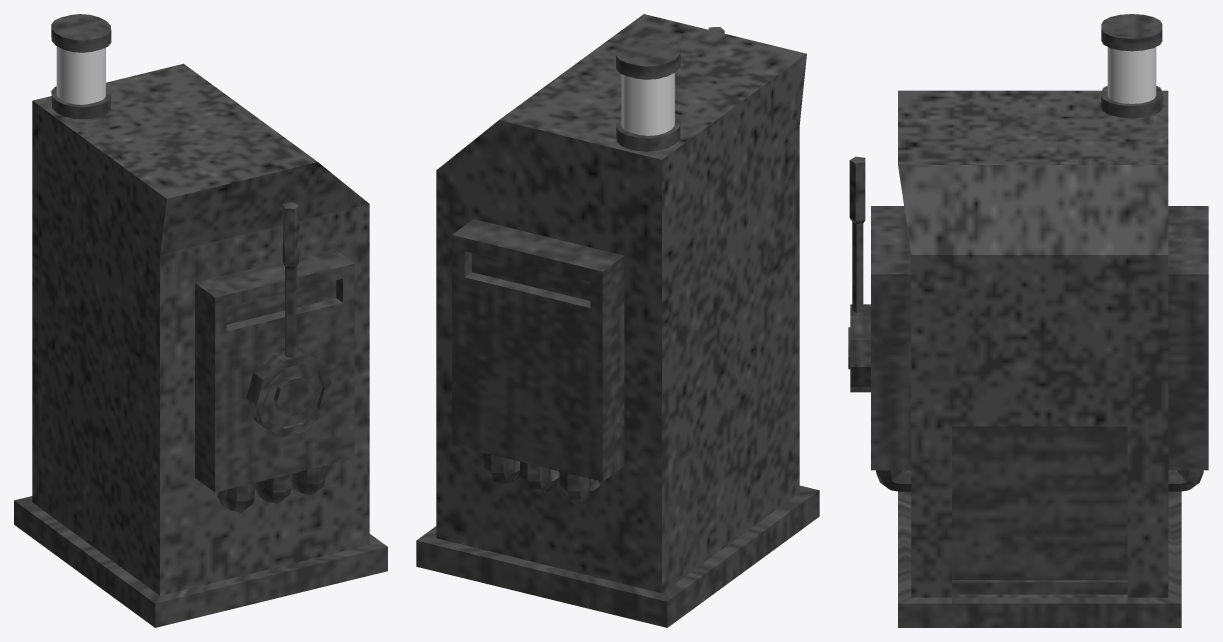
The model's file is Grinderfbx.fbx.
3 views of the same model, side by side, from view 1: azimuth 30°, elevation 25°; view 2: azimuth 150°, elevation 25°; view 3: azimuth 270°, elevation 25° (orthographic). The views are drawn at different scales.
Parts seen in each view (by area): view 1: Cylinder.009, Lever; view 2: Cylinder.009; view 3: Cylinder.009, DoorSlide, Lever.
Boxes of the visible parts, x1,y1,x2,y2 form: Cylinder.009: (14, 14, 387, 627); Lever: (246, 202, 332, 436); Cylinder.009: (416, 14, 819, 627); Cylinder.009: (871, 14, 1208, 627); DoorSlide: (952, 426, 1127, 594); Lever: (848, 156, 870, 392).
Size of the model in its own units: 125 by 259 by 167.
